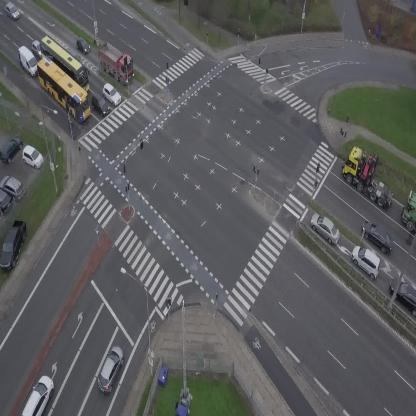bus: (29, 53, 100, 123), (32, 34, 98, 93)
car: (356, 216, 400, 257), (94, 344, 128, 395), (19, 372, 58, 416), (345, 242, 386, 280), (305, 210, 345, 246), (98, 81, 124, 107), (87, 91, 112, 118), (71, 35, 93, 57), (1, 1, 21, 23), (67, 47, 83, 61), (31, 40, 39, 58)
lorry: (334, 142, 409, 211), (88, 37, 143, 88), (12, 43, 43, 80), (402, 192, 416, 232)
